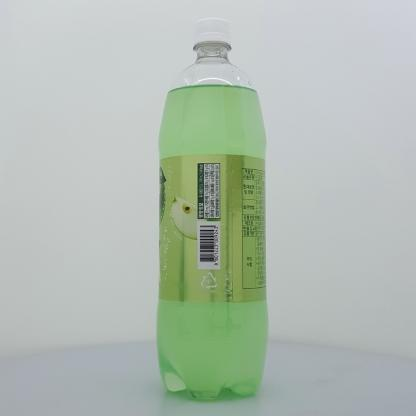----------------: (156, 18, 269, 400)
